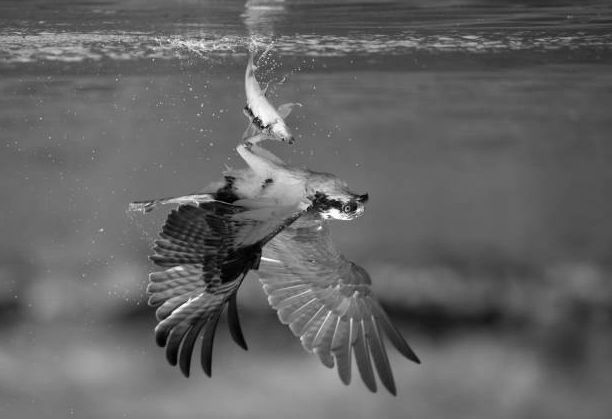Bird: (121, 106, 425, 398)
